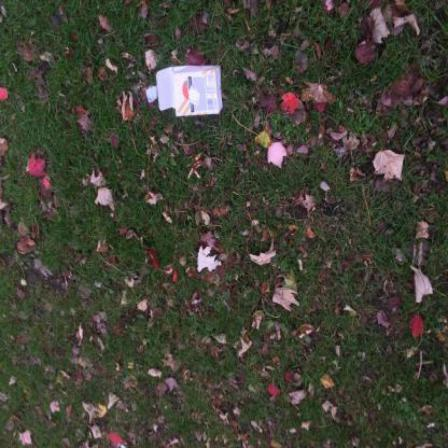Carton: (156, 66, 224, 118)
Plastic bag - wrapper: (147, 86, 159, 105)
